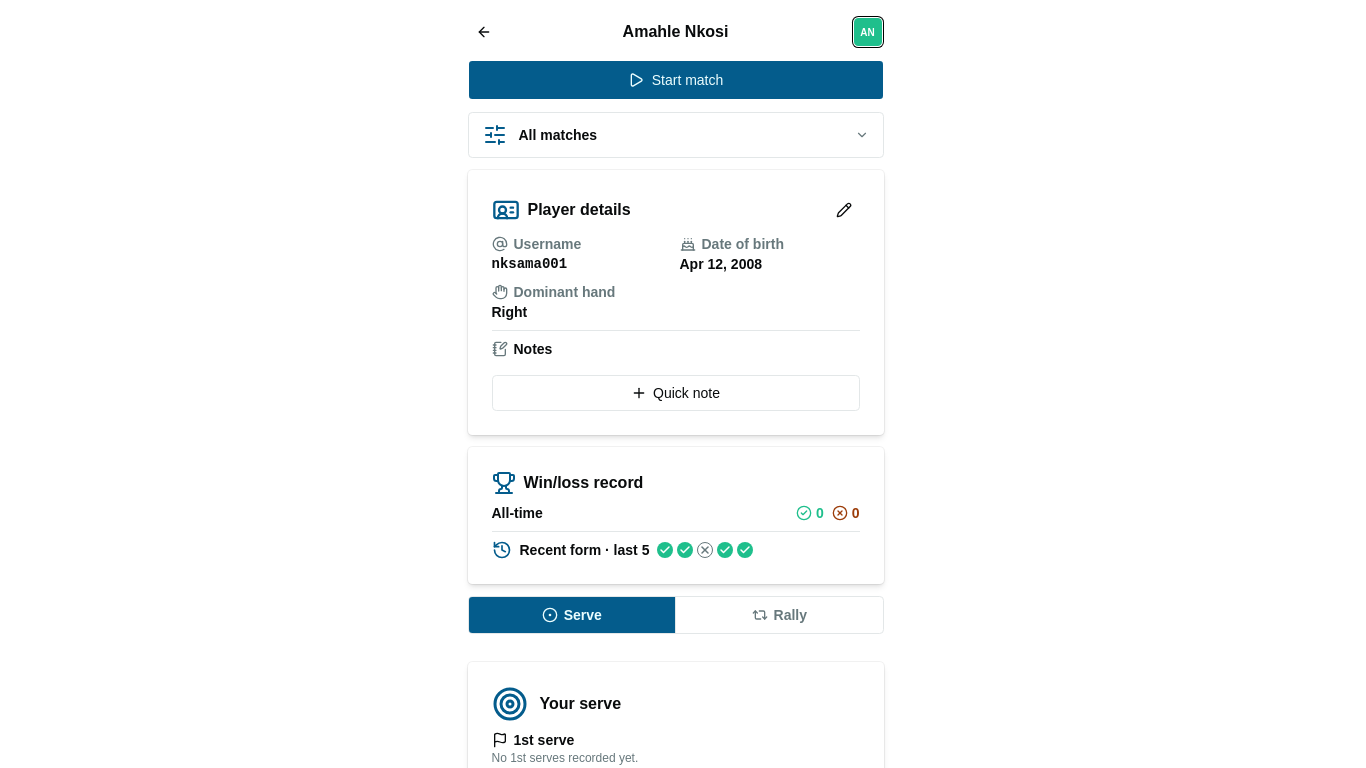
Test: Edit opens the sheet pre-filled with the player's current values
expect the heading "Amahle Nkosi" is shown: met, box top-left (623, 20), bottom-right (728, 44)
Click the button named "Edit" at {"x": 844, "y": 210}, box top-left (828, 194), bottom-right (860, 226)
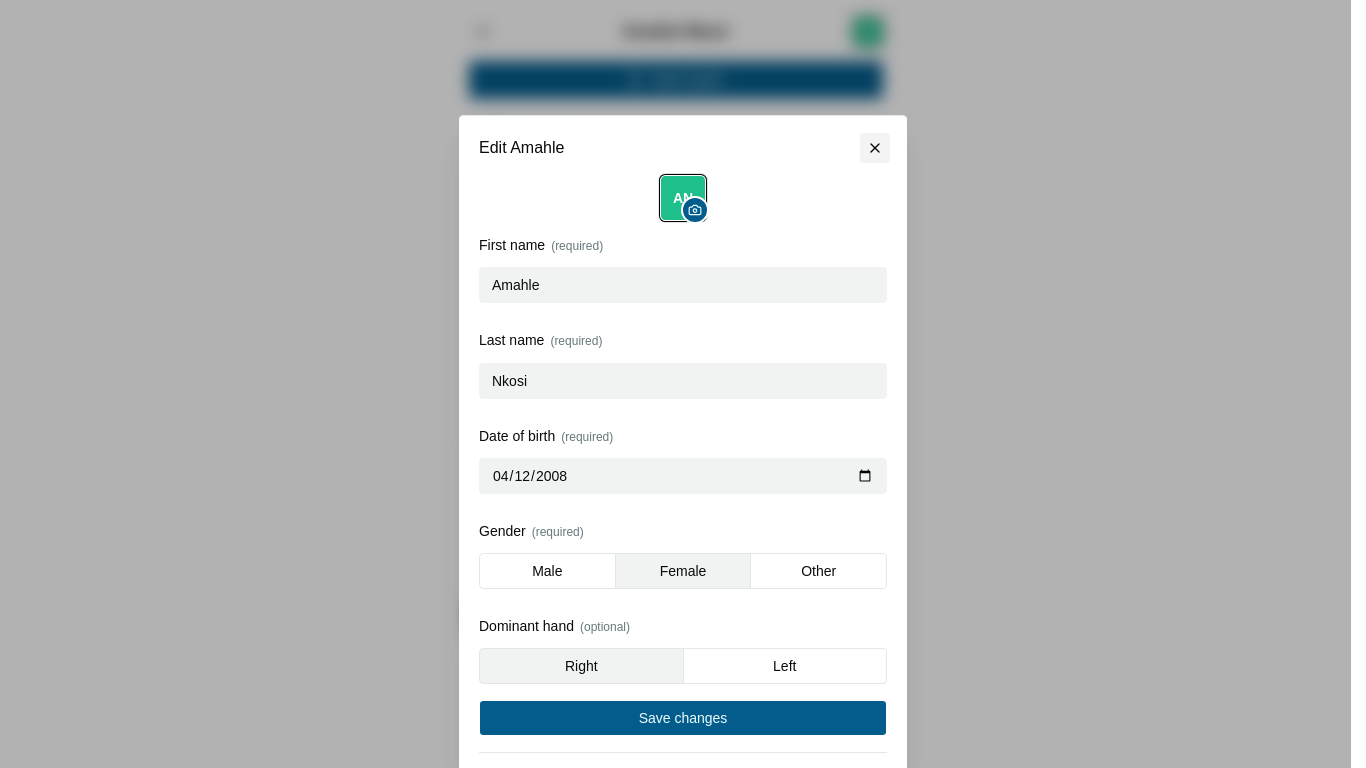
expect the heading "Edit Amahle" is shown: met, box top-left (479, 139), bottom-right (564, 156)
expect the field labelled "First name" holds "Amahle": met, box top-left (479, 268), bottom-right (887, 304)
expect the field labelled "Last name" holds "Nkosi": met, box top-left (479, 363), bottom-right (887, 399)
